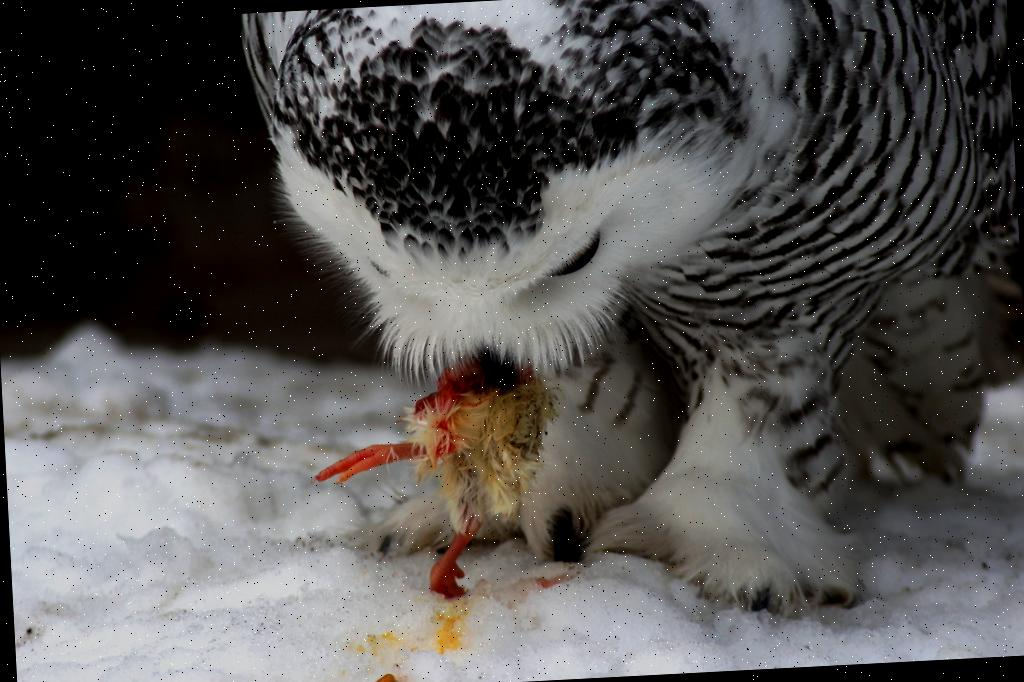Owl: (240, 0, 1024, 646)
